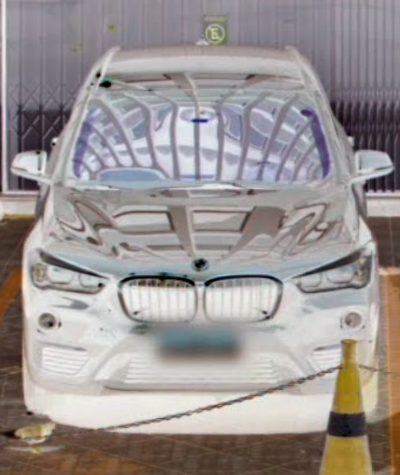car: (13, 45, 393, 424)
